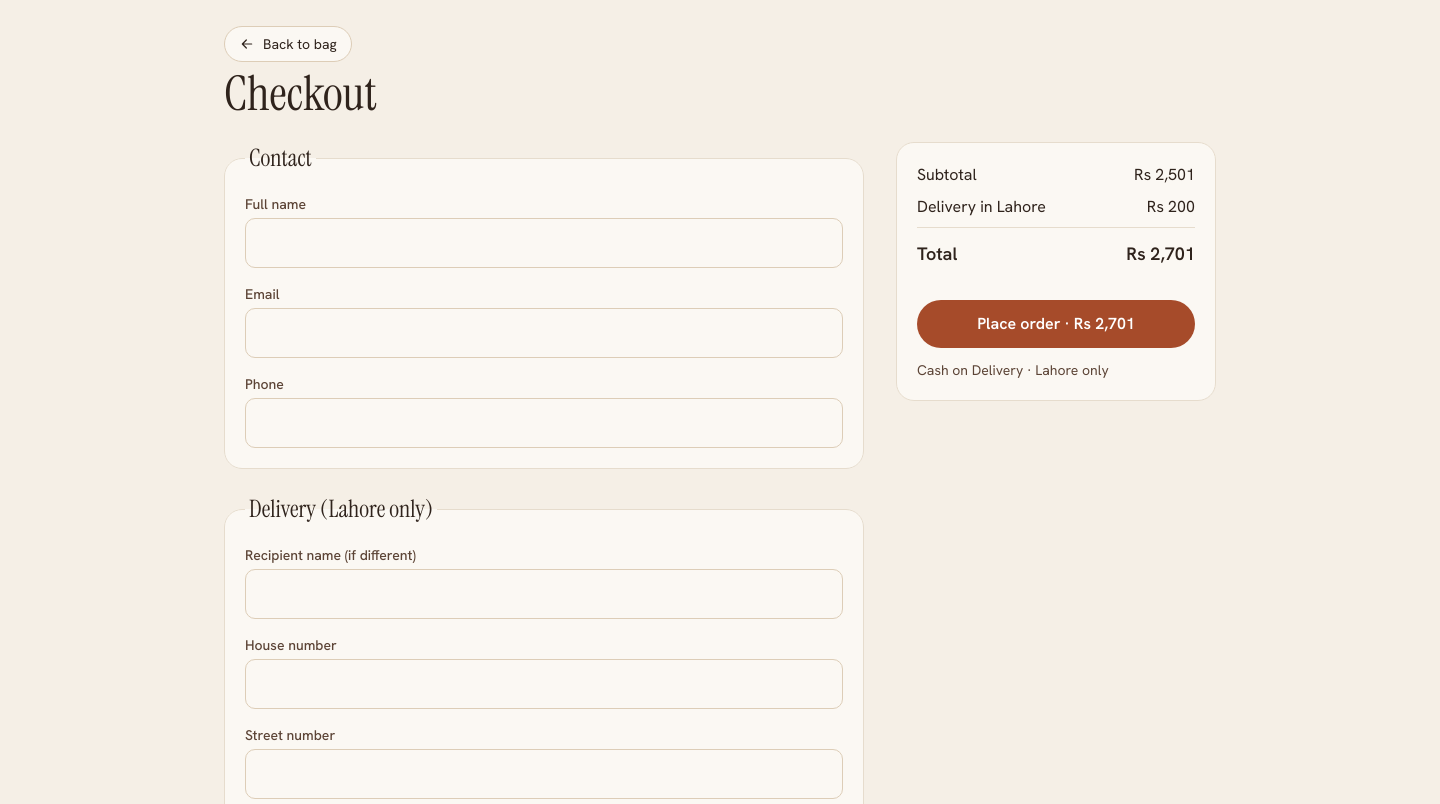
it: explains CHECKOUT_INVALID errors and keeps the cart
Step 1. Type "Ayesha Khan" into the field labelled "Full name" → (544, 243), box [245, 218, 843, 268]
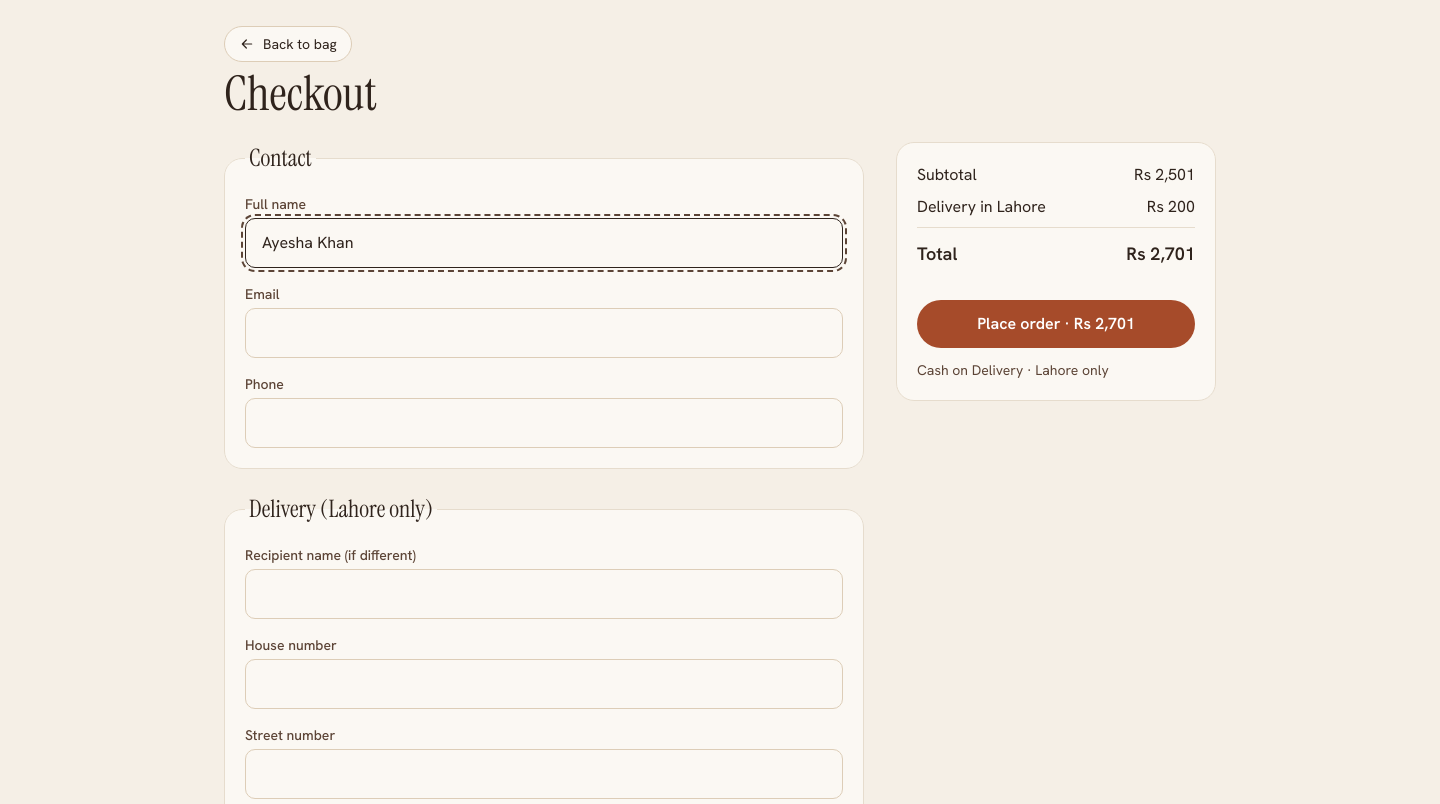
Step 2. Type "a@example.com" into the field labelled "Email" → (544, 333), box [245, 308, 843, 358]
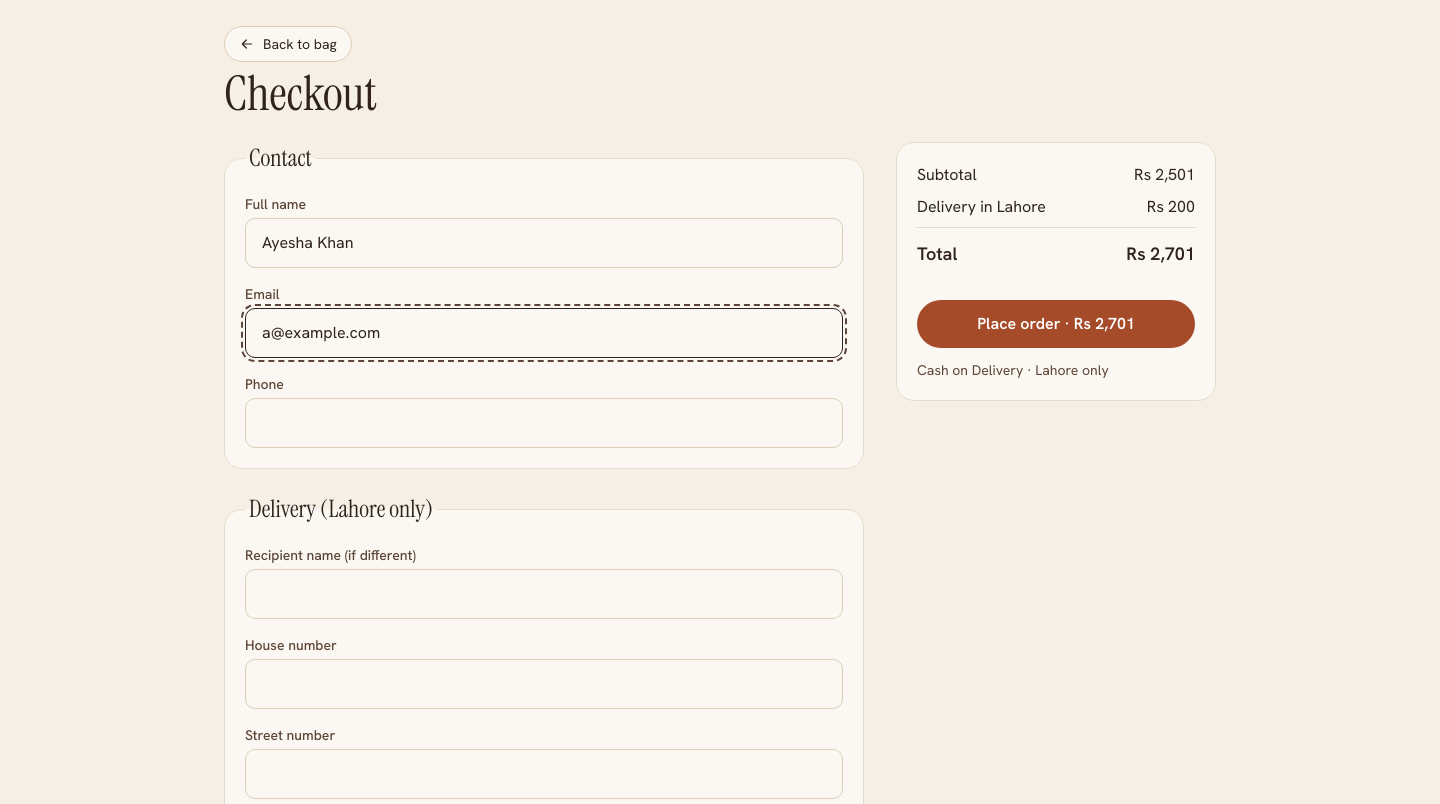
Step 3. Type "12-B" into the field labelled "House number" → (544, 684), box [245, 659, 843, 709]
(page scrolled)
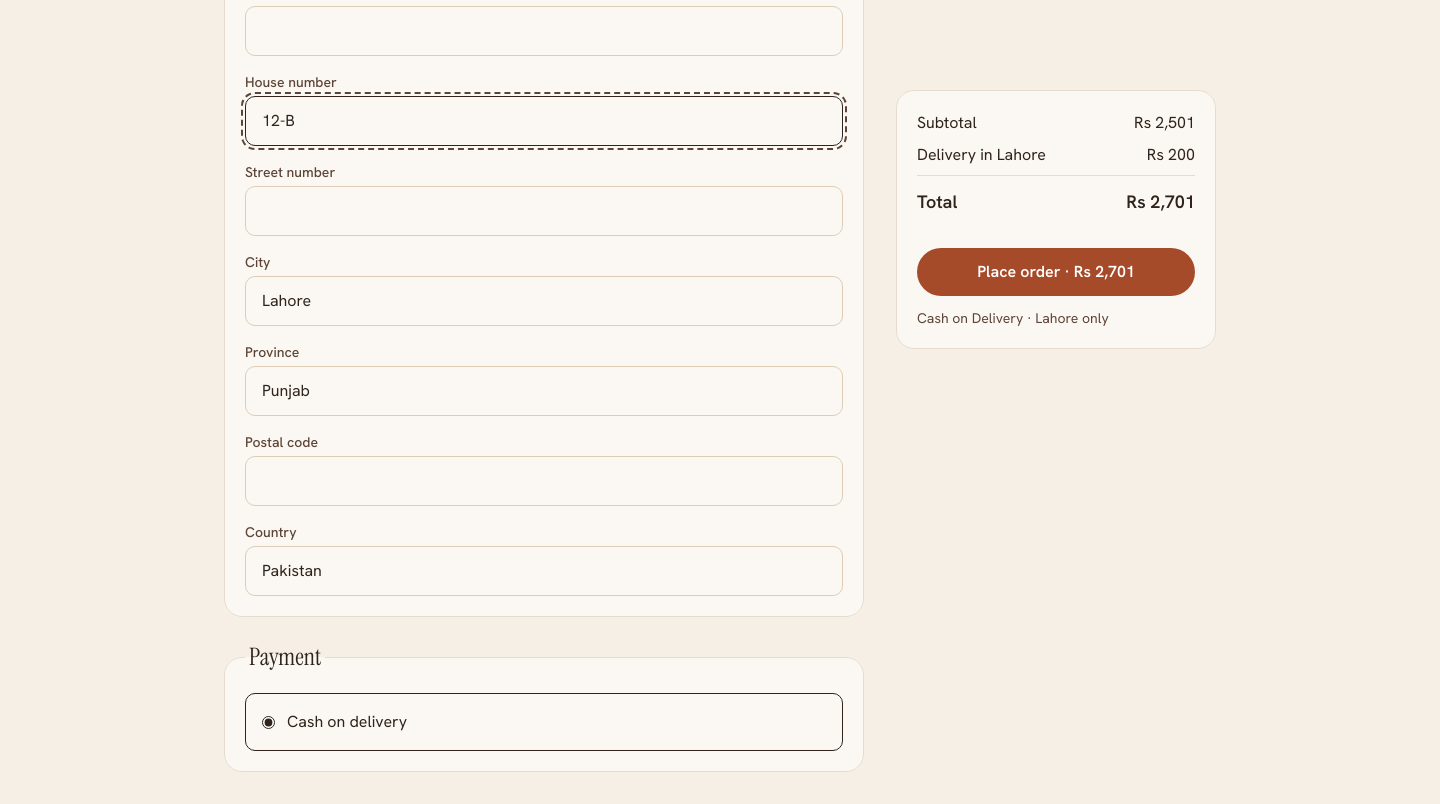
Step 4. Type "54000" into the field labelled "Postal code" → (544, 481), box [245, 456, 843, 506]
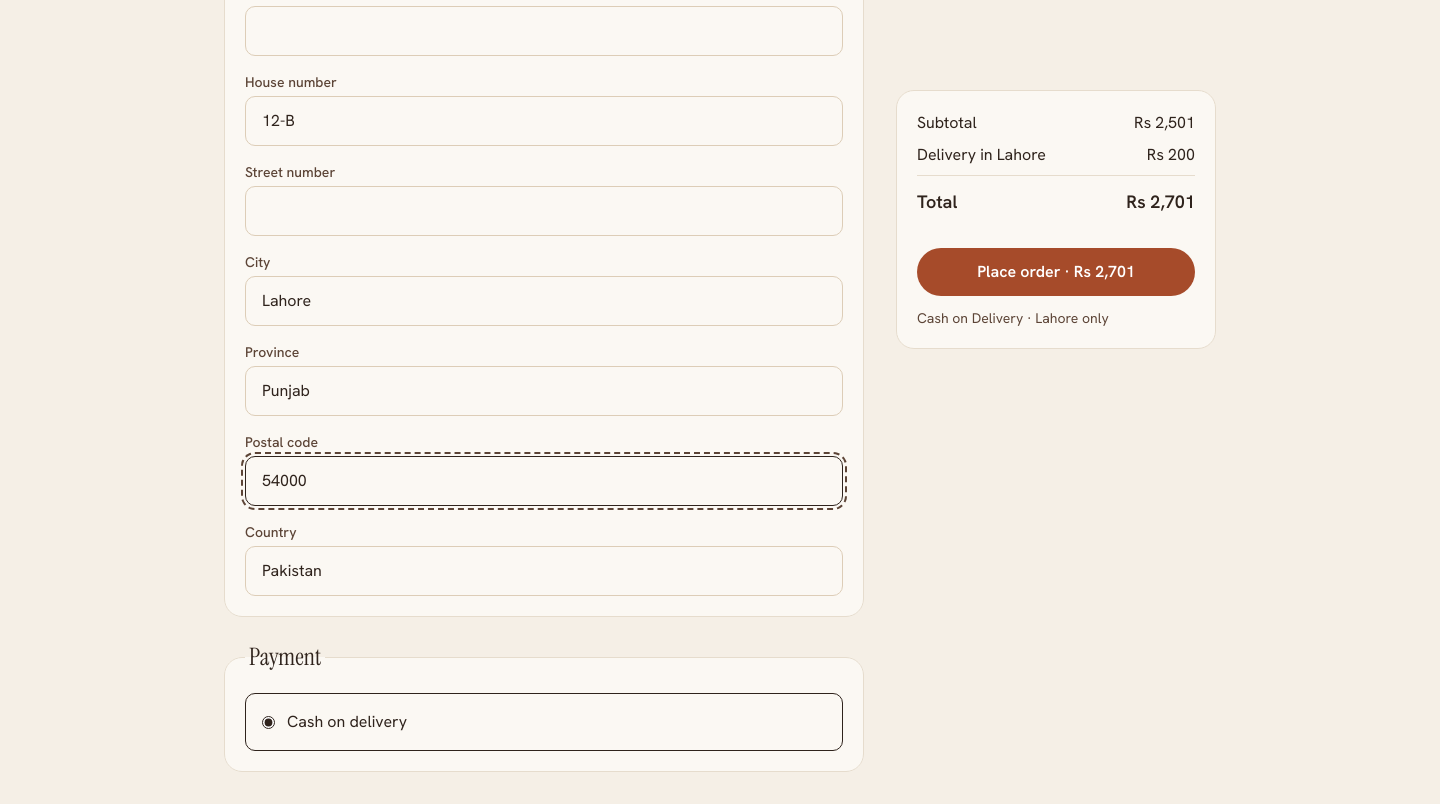
Step 5. Click the button "Place order · Rs 2,701" → (1056, 272), box [917, 248, 1195, 296]
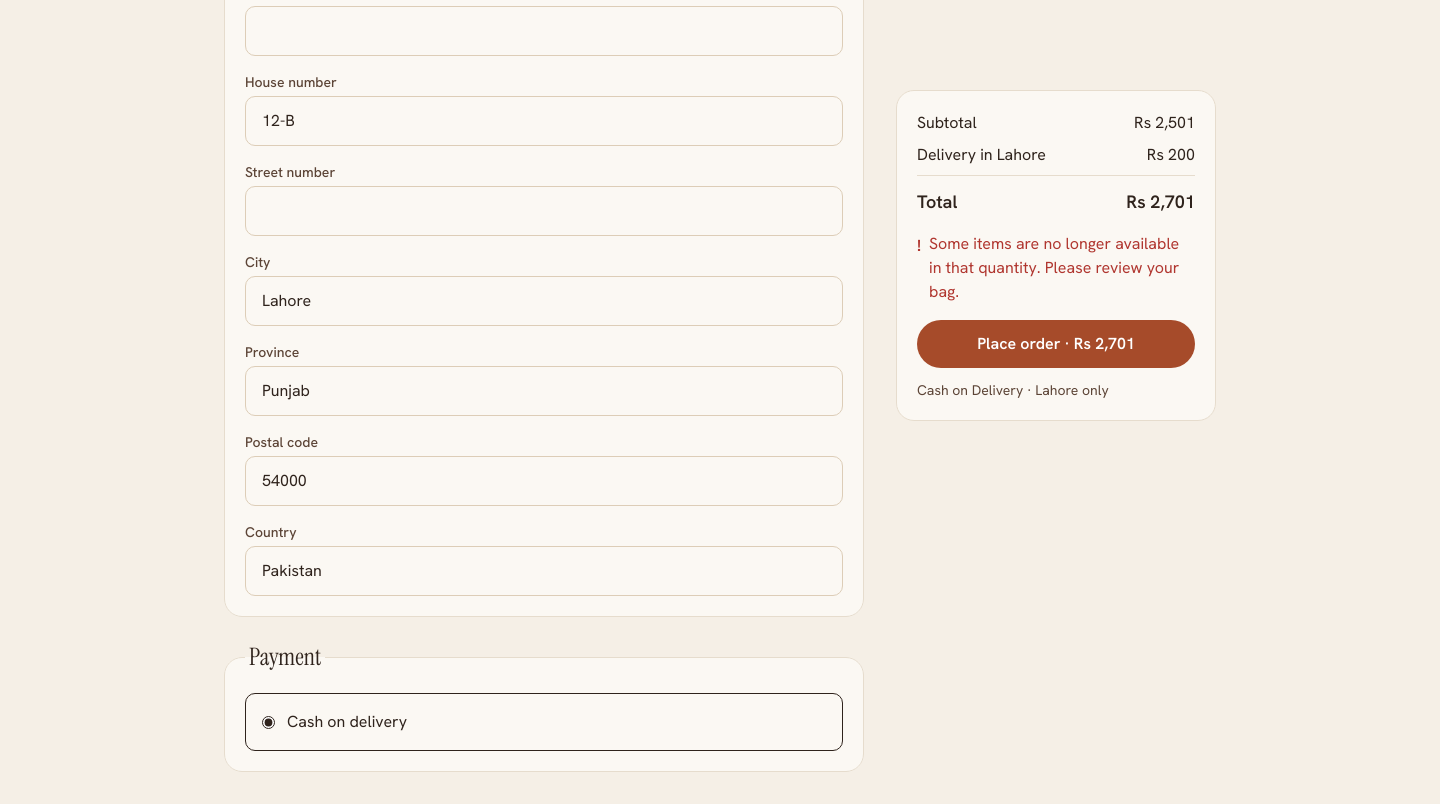
Expected: the message shows "no longer available", [929, 233, 1179, 302]
